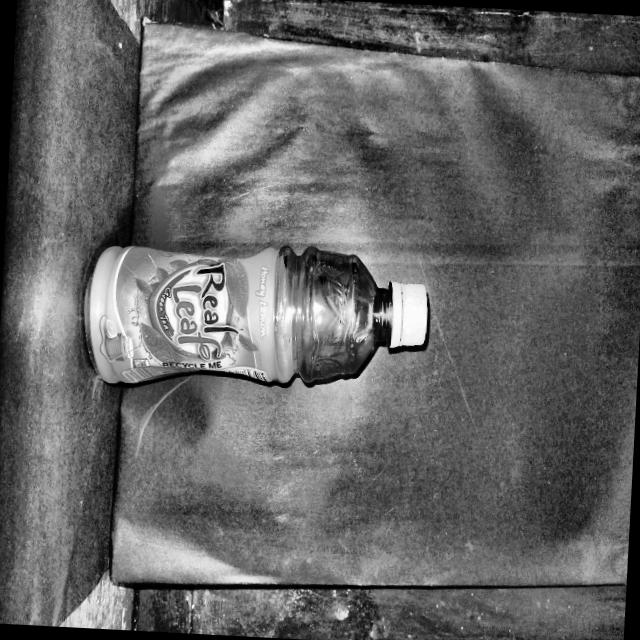Plastic-Bottle: (74, 234, 432, 404)
